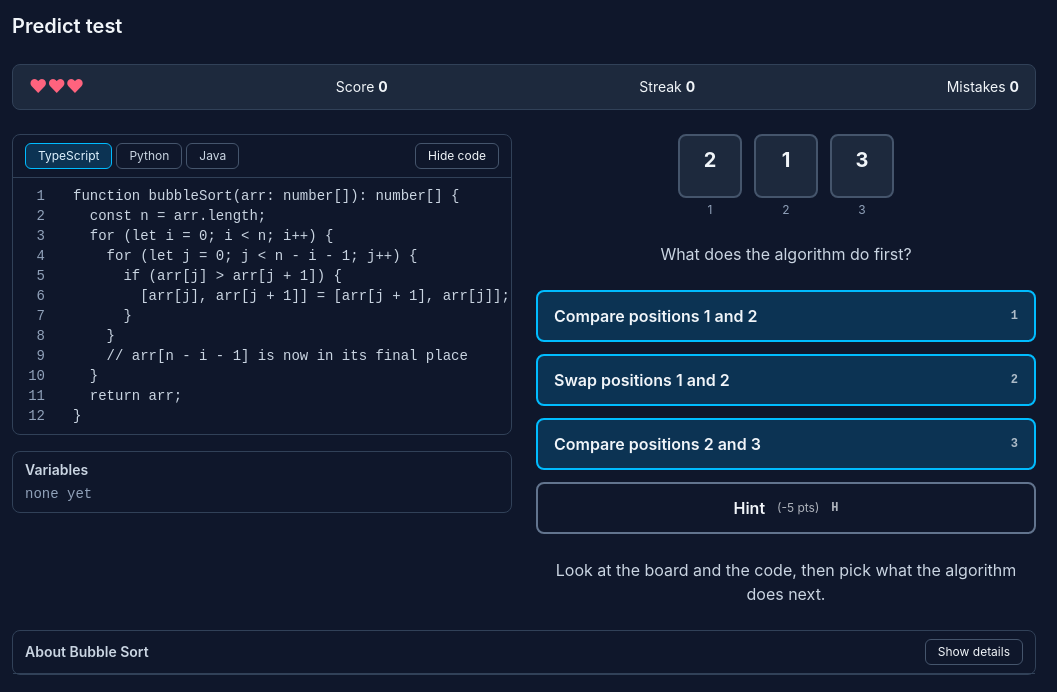
Test: PredictScreen › a correct answer scores and shows what just happened
The image size is (1057, 692).
What coordinates should you click on to do the following:
click the button "Compare positions 1 and 2 1"
I would click on:
 (656, 316)
Its box is [536,290,1036,342].
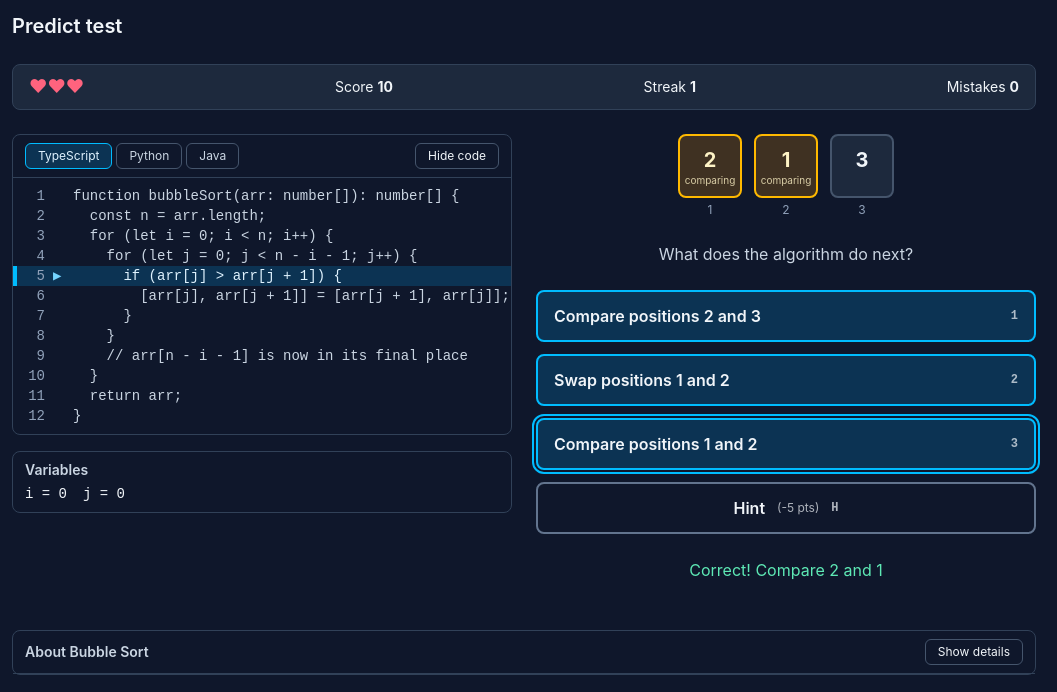
Result: the element named "Game stats" shows "Score 10" at [12,64,1036,110]
Result: the text "Correct! Compare 2 and 1" is shown at [689,560,883,580]
Result: the list item with aria-label "Box 1: 2, comparing" is shown at [678,134,742,218]
